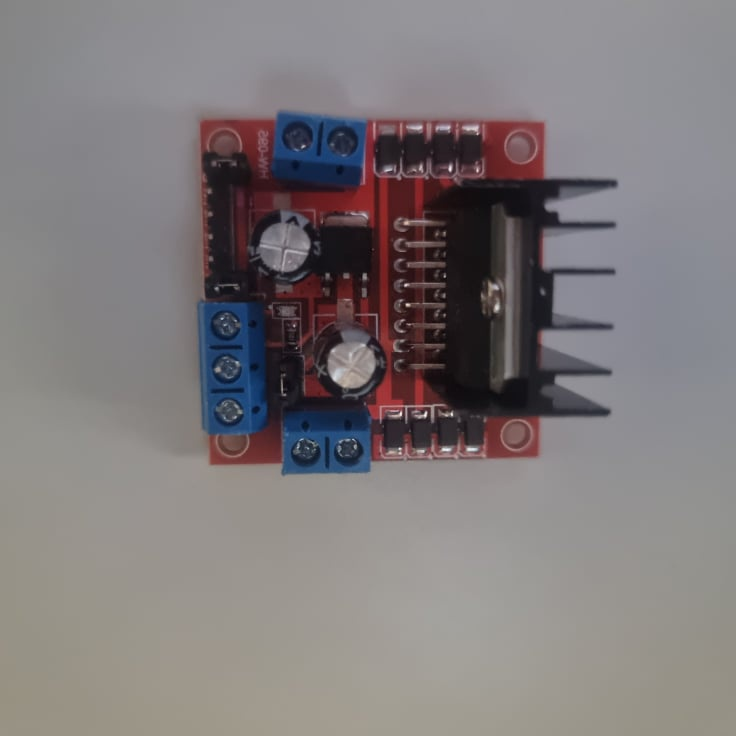MOTOR: (200, 111, 621, 475)
